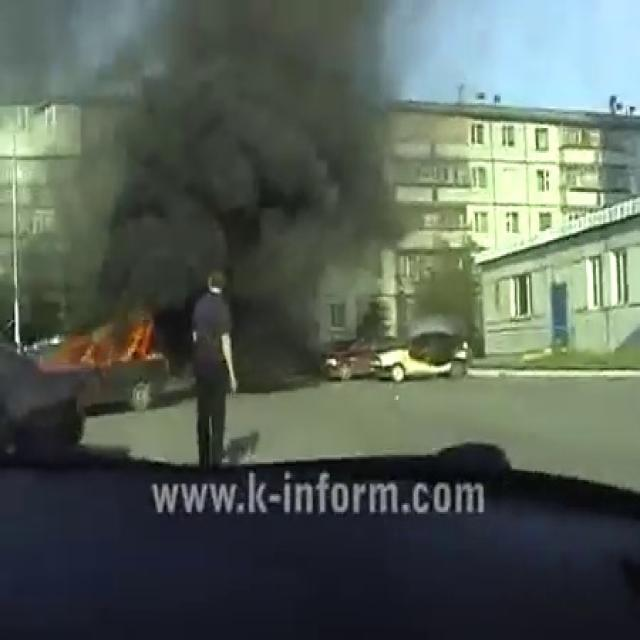Fire: (61, 308, 164, 376)
Smoke: (1, 0, 471, 334)
